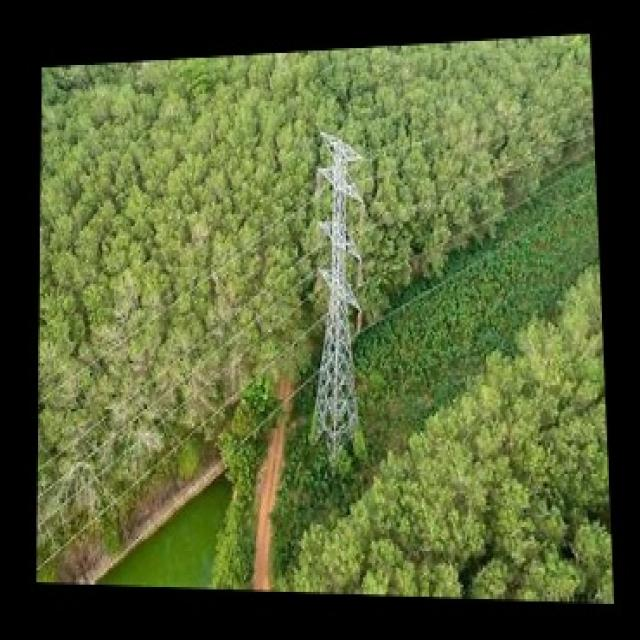utility poles: (300, 118, 384, 486)
